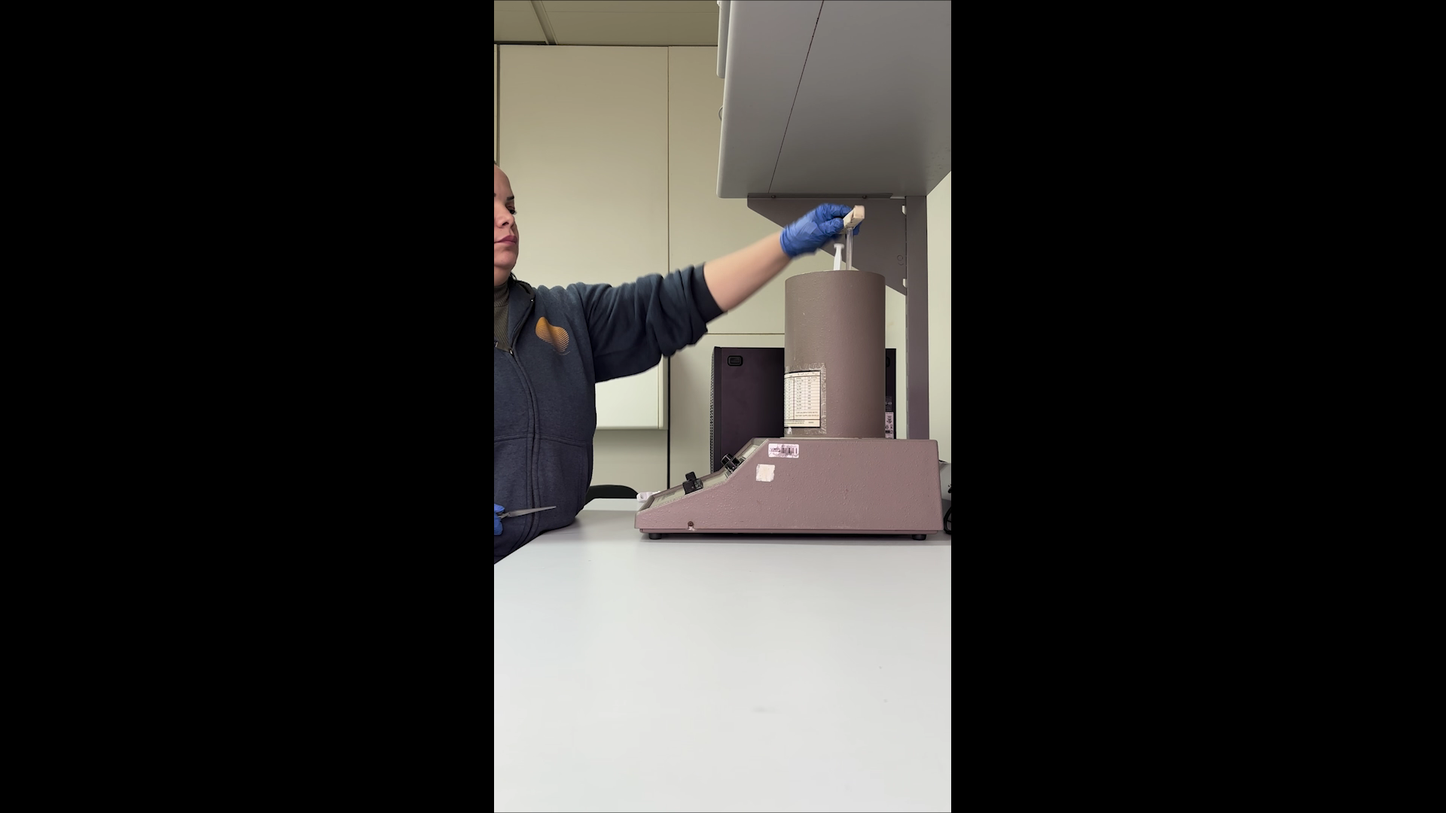Amostra: (830, 241, 844, 271)
Ativimetro: (782, 268, 887, 437)
Com_Luva: (779, 201, 863, 254)
